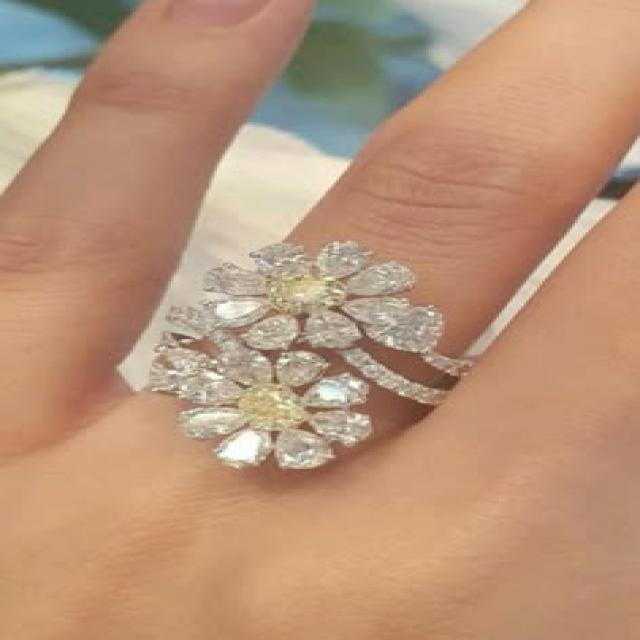Ring: (138, 237, 475, 474)
